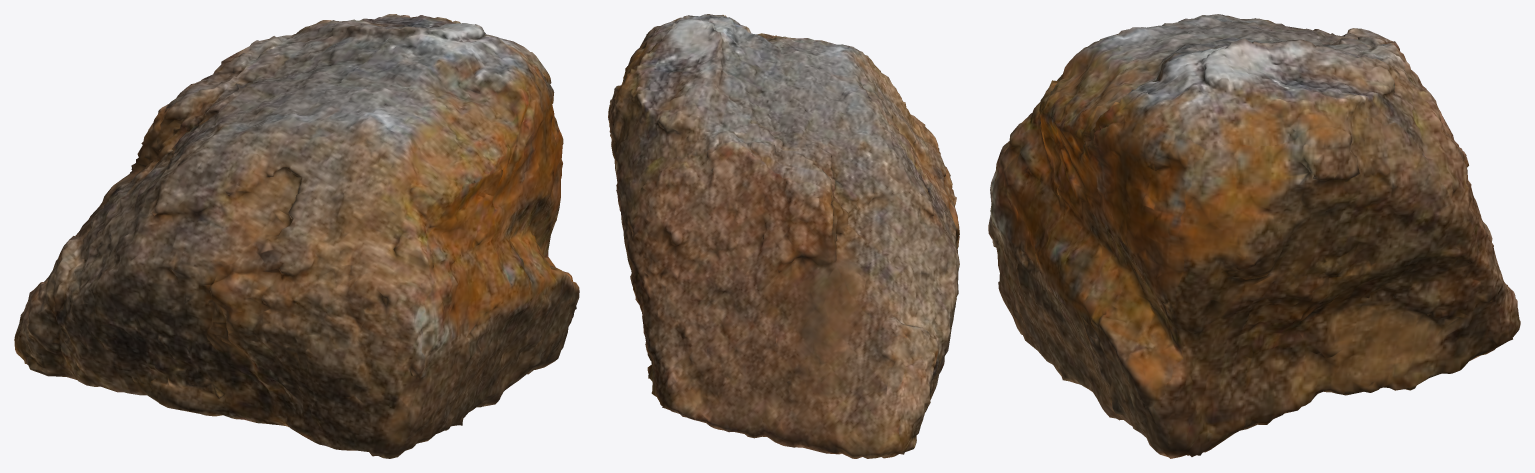
Rendered from boulder_04.glb.
3 views of the same model, side by side, from view 1: azimuth 30°, elevation 25°; view 2: azimuth 150°, elevation 25°; view 3: azimuth 270°, elevation 25° (orthographic). The views are drawn at different scales.
Parts seen in each view (by area): view 1: boulder_04; view 2: boulder_04; view 3: boulder_04.
Boxes of the visible parts, x1,y1,x2,y2 form: boulder_04: [14, 14, 579, 458]; boulder_04: [608, 14, 959, 458]; boulder_04: [988, 14, 1520, 458].
Size of the model in its own units: 2.52 by 1.9 by 2.5.
1 material, 1 textured.
